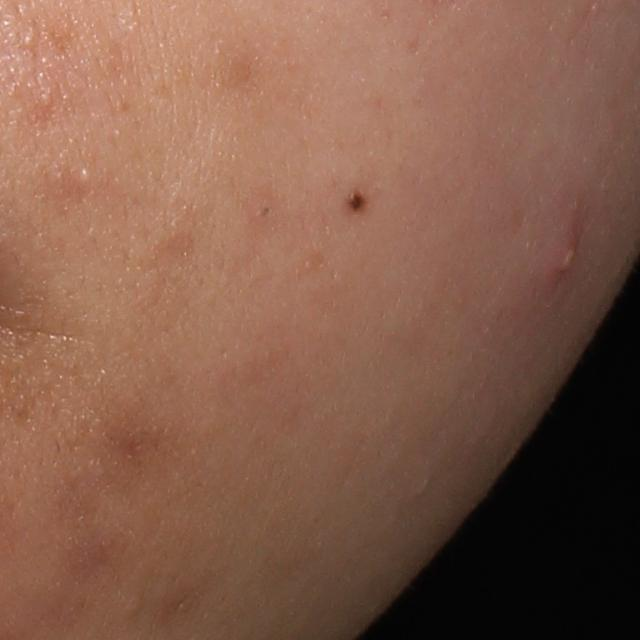comedo: (250, 202, 272, 223)
nevus: (348, 193, 363, 213)
